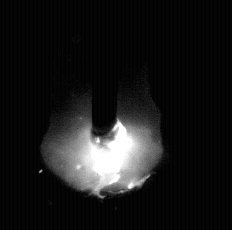arame: (92, 0, 118, 137)
poca: (39, 0, 164, 230)
